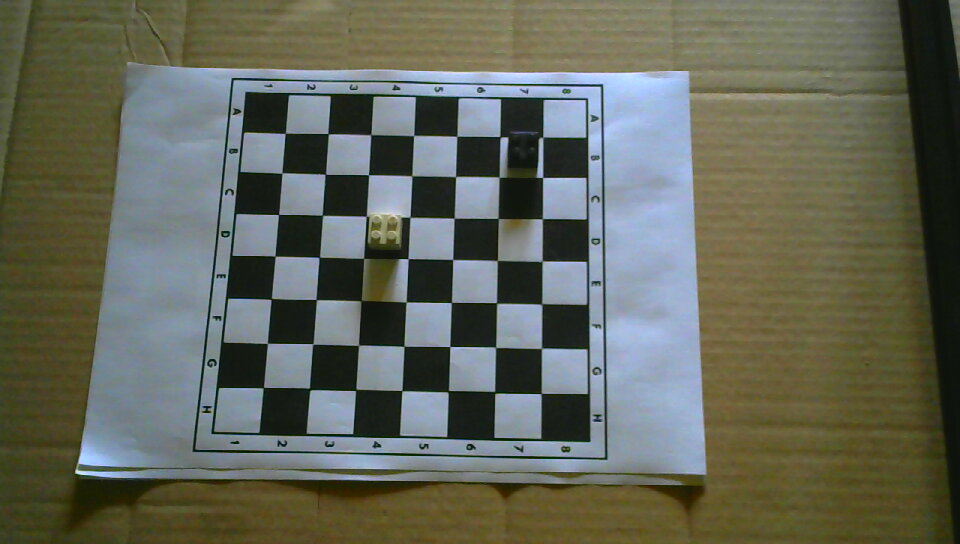bp: (506, 130, 541, 169)
wp: (366, 212, 404, 253)
